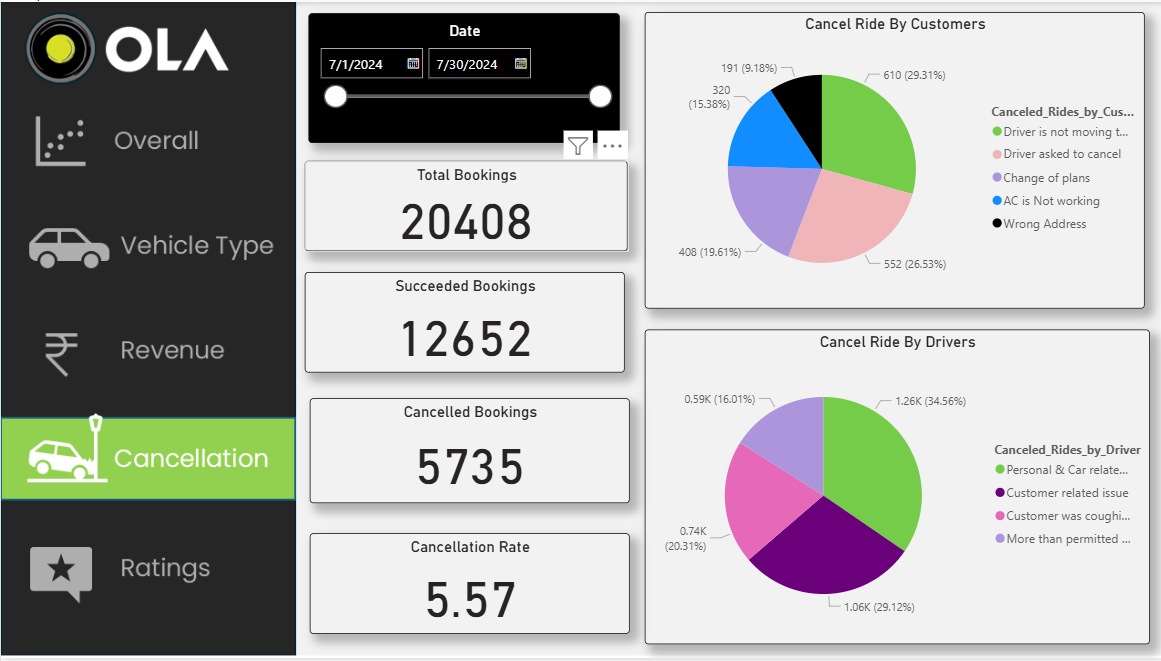

Layout of this report page (visuals, bound fields, positions):
{"tool":"powerbi","page":{"name":"Cancellation","canvas":[1280,720],"ordinal":3},"visuals":[{"type":"actionButton","box":[0,209.9,325.3,105],"z":0},{"type":"actionButton","box":[0,336.7,325.3,97.7],"z":1000},{"type":"actionButton","box":[0,98.7,325.3,111.2],"z":2000},{"type":"actionButton","box":[0,571.6,325.3,100.8],"z":3000},{"type":"pieChart","title":"Cancel Ride By Customers","fields":{"Category":["July.Canceled_Rides_by_Customer"],"Y":["CountNonNull(July.Canceled_Rides_by_Customer)"]},"box":[706.7,11,548.9,325.2],"z":4000},{"type":"pieChart","title":"Cancel Ride By Drivers","fields":{"Category":["July.Canceled_Rides_by_Driver"],"Y":["CountNonNull(July.Canceled_Rides_by_Driver)"]},"box":[707.2,359.5,554.1,345.3],"z":5000},{"type":"slicer","title":"Date","fields":{"Values":["July.Date"]},"box":[338.2,11.9,341.7,142.4],"z":6000},{"type":"card","title":"Succeeded Bookings","fields":{"Values":["Count(July.Booking_ID)"]},"box":[333.9,296.1,351.2,110.2],"z":7000},{"type":"card","title":"Total Bookings","fields":{"Values":["Count(July.Booking_ID)"]},"box":[333.9,174.8,354.3,99.2],"z":8000},{"type":"card","title":"Cancelled  Bookings","fields":{"Values":["July.Canceledbookings"]},"box":[338.6,434.6,351.2,115],"z":9000},{"type":"card","title":"Cancellation Rate","fields":{"Values":["July.Canceledpercentage"]},"box":[338.6,582.7,351.2,110.2],"z":10000}]}

Visuals, with their boxes in screenshot pixels (x1, y1, x2, y2), scaled from the page's 1280x720 canvas onto the 1161x661 screenshot:
actionButton: 0:193:295:289
actionButton: 0:309:295:399
actionButton: 0:91:295:193
actionButton: 0:525:295:617
"Cancel Ride By Customers" pieChart: 641:10:1139:309
"Cancel Ride By Drivers" pieChart: 641:330:1144:647
"Date" slicer: 307:11:617:142
"Succeeded Bookings" card: 303:272:621:373
"Total Bookings" card: 303:160:624:252
"Cancelled  Bookings" card: 307:399:626:505
"Cancellation Rate" card: 307:535:626:636
